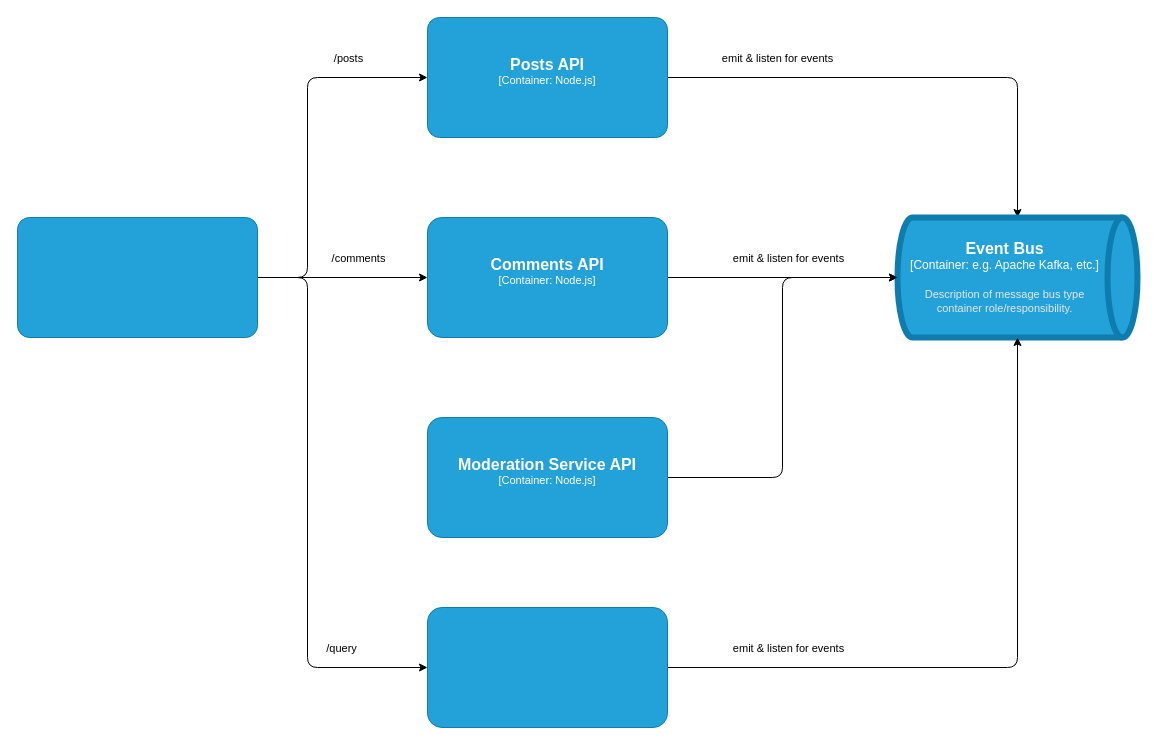
Some shapes in this 1158 by 745 pixel diagram are drawn without their labels. The shapes that lost their labels are listed below. From the top down, each one's centre as x and y in pixels, then its label:
At pixel 137 277: "UI - SPA [Container: React.js]".
At pixel 547 667: "Query Service API [Container: Node.js]".
